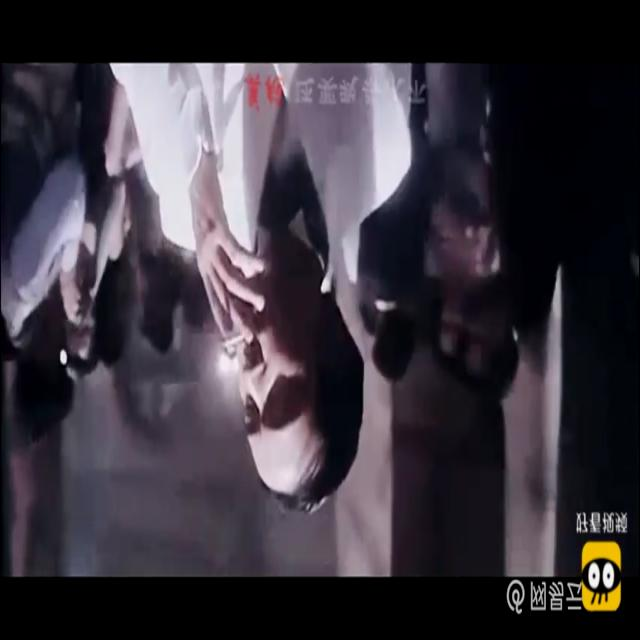smoke: (218, 324, 244, 356)
